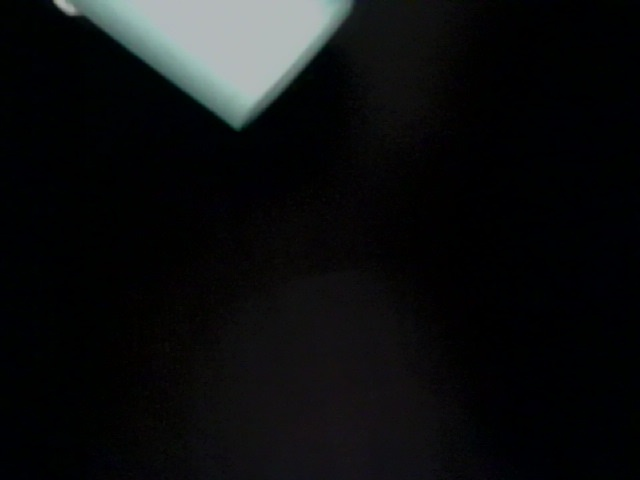CYLJ: (446, 363, 546, 480)
